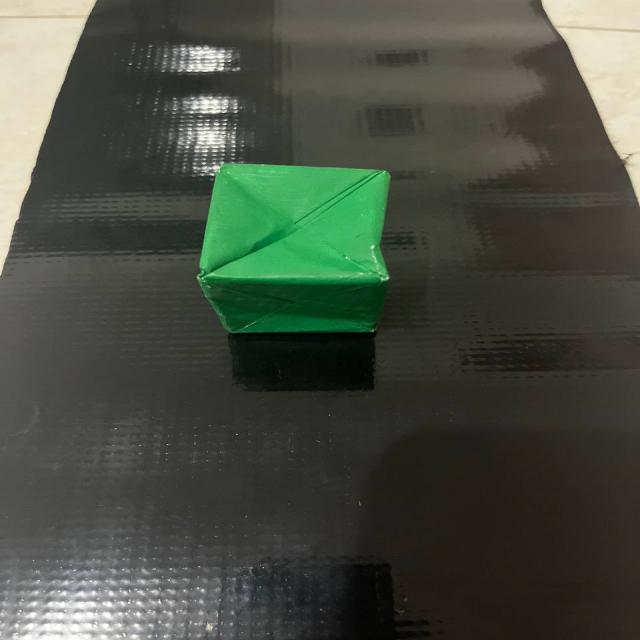Verde: (192, 151, 412, 361)
